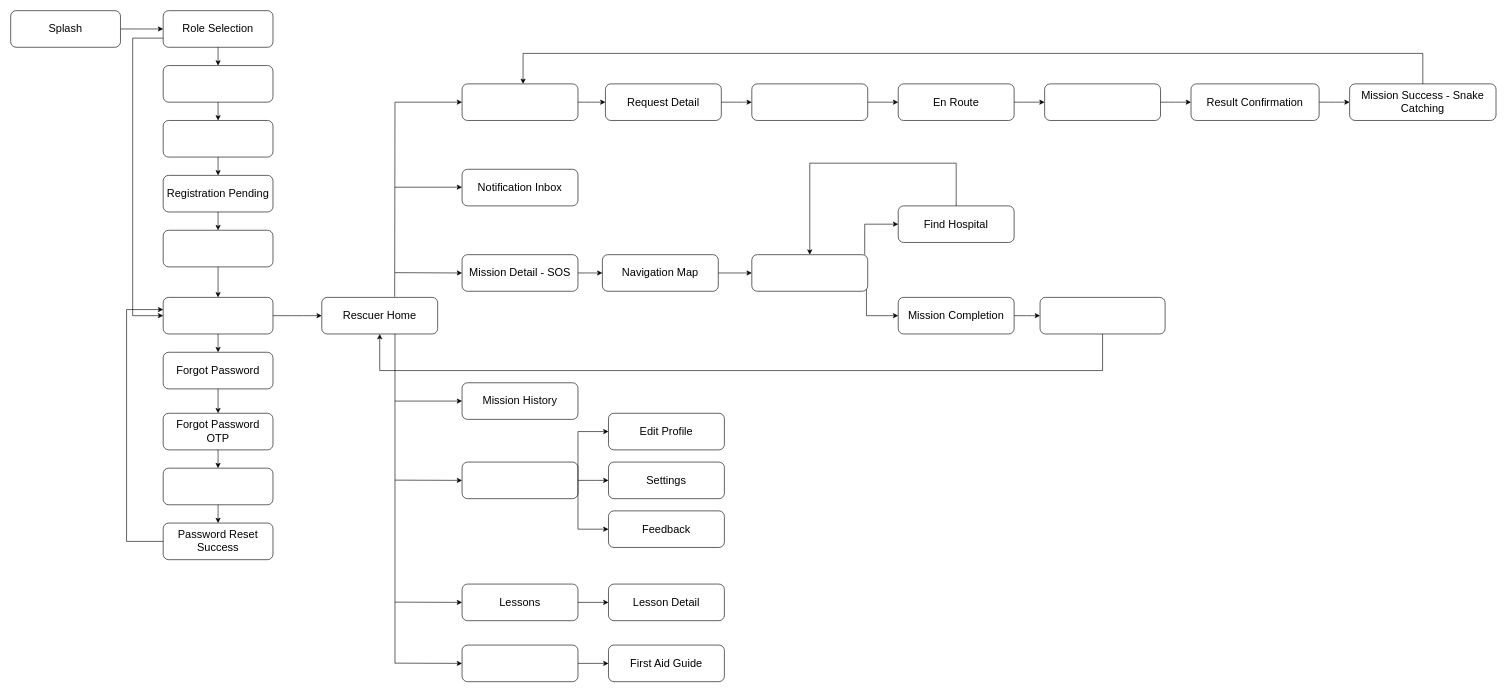
This 1507x692 diagram has some shape labels left out. Each missing label, with the centre of its shape:
"Accept Request" goes at point 809,101.
"Available Jobs" goes at point 519,101.
"Mission Success - Emergency" goes at point 1102,315.
"On-scene Support" goes at point 809,272.
"OTP Verification" goes at point 218,138.
"Profile Tab" goes at point 519,480.
"Registration Success" goes at point 218,248.
"Rescuer Login" goes at point 218,315.
"Rescuer Registration" goes at point 218,83.
"Reset Password" goes at point 218,486.
"Snake Library" goes at point 519,663.
"Tracking" goes at point 1102,101.
